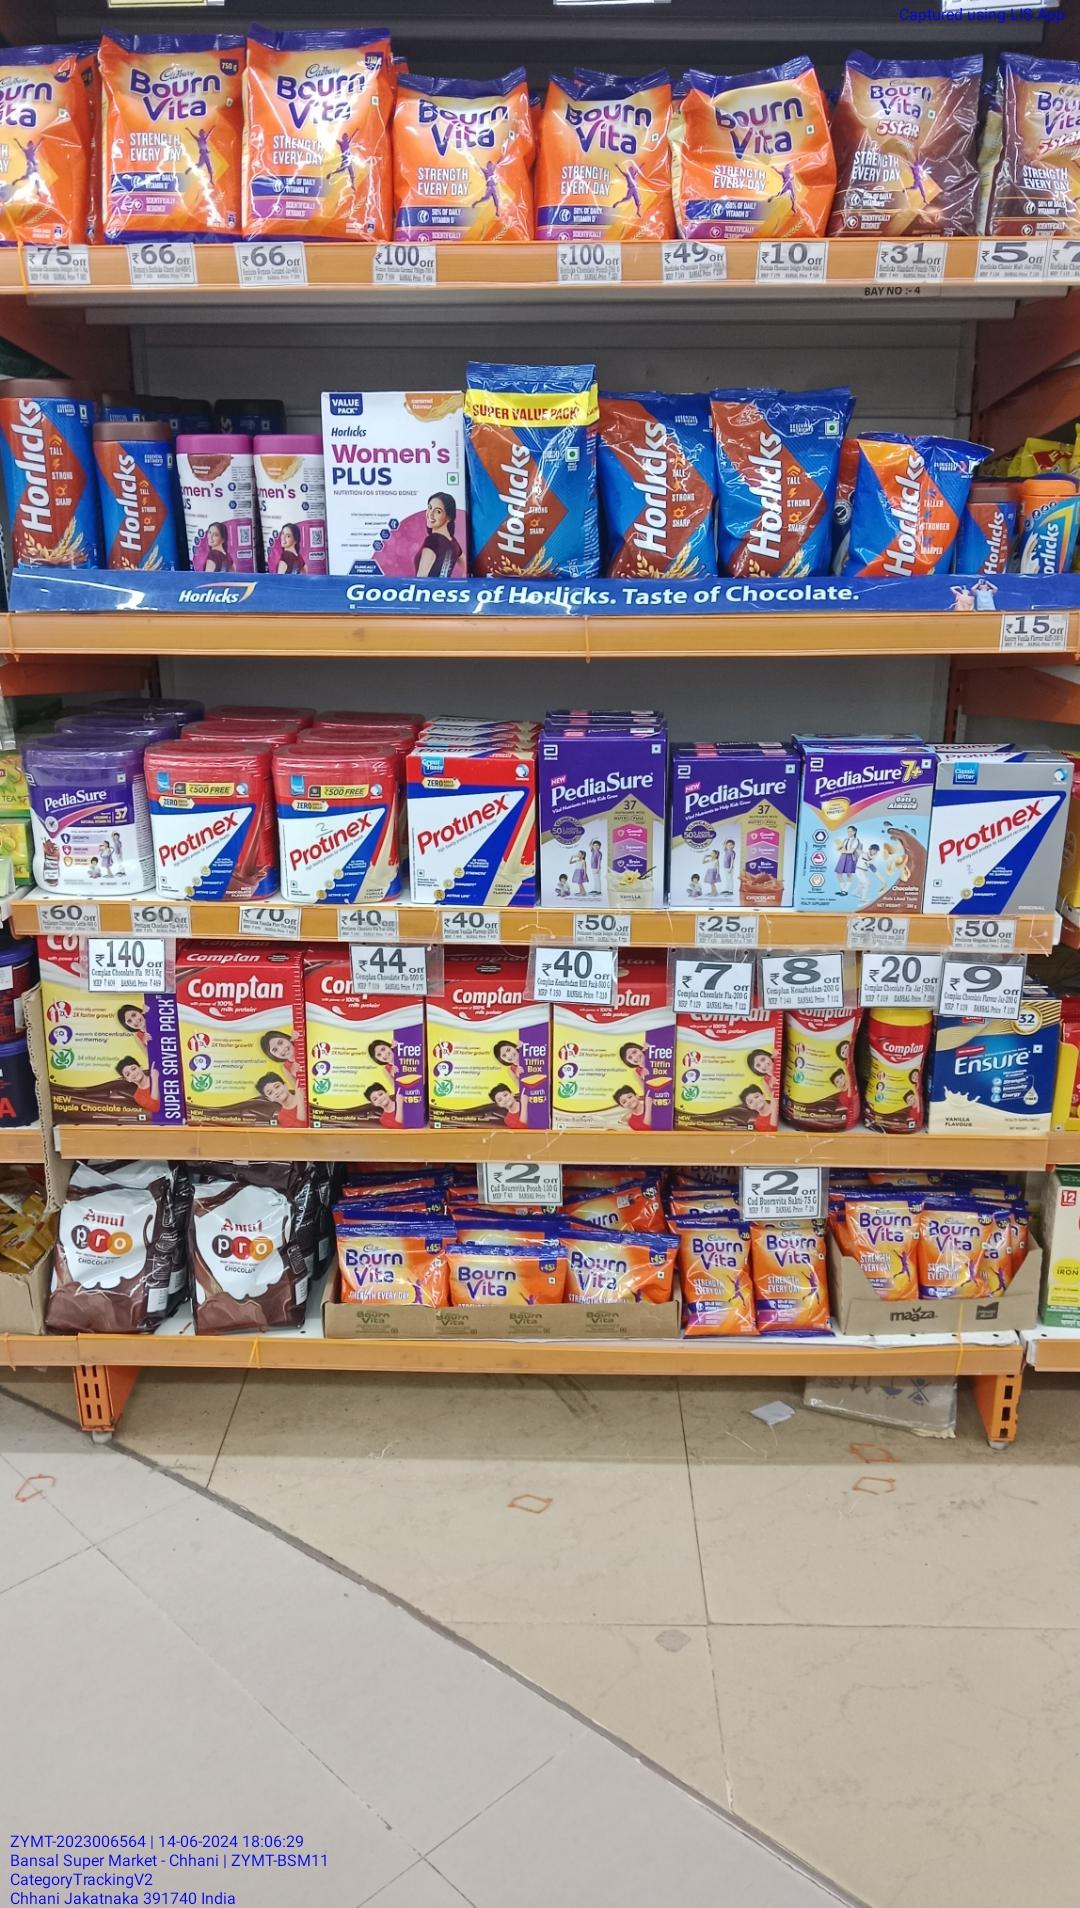BOURN_VITA_500_G_POUCH: (682, 66, 824, 237), (393, 72, 530, 238), (537, 75, 667, 236)
BOURN_VITA_750_G_POUCH: (242, 31, 388, 240), (101, 28, 236, 237), (0, 43, 81, 245)
BOURN_VITA_75_G_POUCH: (756, 1227, 830, 1337), (684, 1227, 752, 1335), (920, 1204, 983, 1299), (861, 1198, 917, 1300)
BOURN_VITA_FIVE_STAR_MAGIC_500_G_POUCH: (836, 50, 982, 233)
COMPLAN_CHOCOLATE_1_KG_PACK: (42, 936, 178, 1124)
COMPLAN_CHOCOLATE_200_GMS_JAR: (868, 1008, 927, 1134)
COMPLAN_CHOCOLATE_500_GMS_JAR: (785, 1006, 857, 1131)
COMPLAN_CHOCOLATE_500_GMS_PACK: (178, 963, 303, 1126), (304, 966, 423, 1126), (429, 982, 549, 1130), (675, 1013, 780, 1132)
COMPLAN_KESAR_BADAM_200_GMS_PACK: (554, 1004, 675, 1131)
ENSURE_VANILLA_400_G_PACK: (931, 1013, 1056, 1139)
HORLICK_CHOCOLATE_200_G_JAR: (96, 421, 173, 570), (965, 486, 1016, 574)
HORLICK_CHOCOLATE_500_G_JAR: (1, 376, 90, 567)
HORLICK_CHOCOLATE_750_G_POUCH: (712, 388, 840, 575), (602, 391, 710, 577)
HORLICK_CLASSIC_MALT_200_G_JAR: (1017, 477, 1076, 574)
HORLICK_CLASSIC_MALT_750_G_POUCH: (853, 432, 958, 574)
PEDIASURE_7_PLUS_CHOCOLATE_400_G_PACK: (798, 751, 925, 913)
PEDIASURE_CHOCOLATE_500_G_PACK: (672, 759, 797, 904)
PEDIASURE_VANILLA_500_G_PACK: (540, 742, 666, 907)
PROTINEX_CHOCOLATE_400_G_JAR: (148, 754, 269, 902)
PROTINEX_VANILLA_400_G_JAR: (271, 756, 398, 903)
